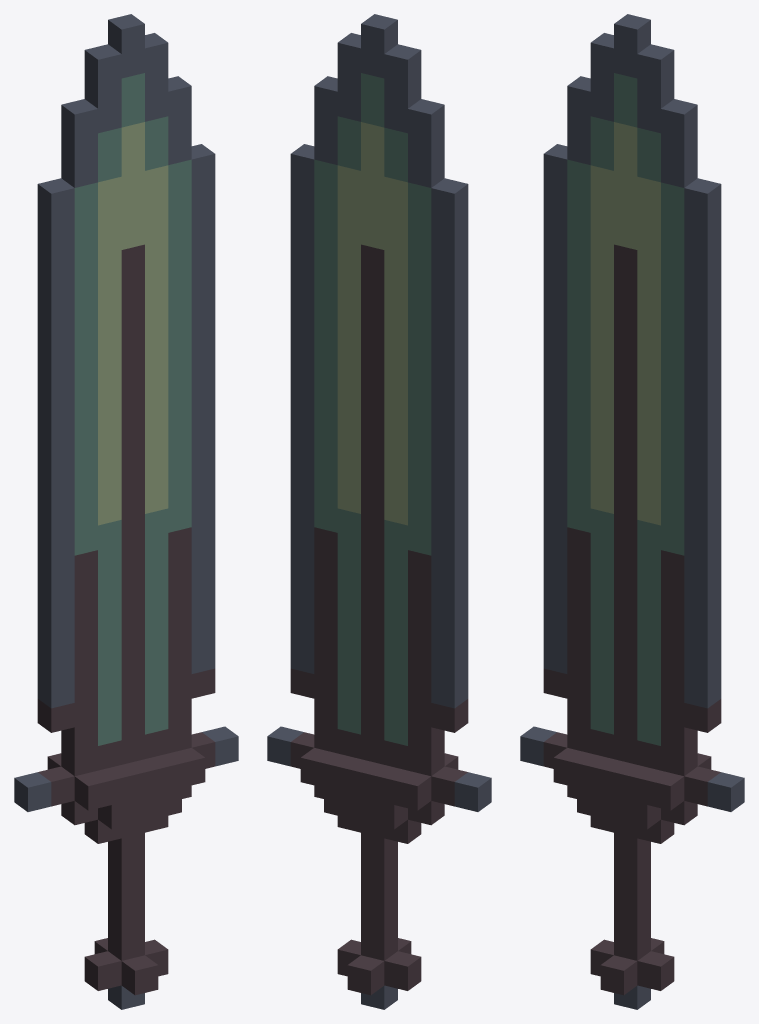
Rendered from demonKingSword.fbx.
3 renders of one model, left to right at view 1: azimuth 30°, elevation 25°; view 2: azimuth 150°, elevation 25°; view 3: azimuth 330°, elevation 25°, orthographic.
Visible parts, largest first — view 1: demonKingSword; view 2: demonKingSword; view 3: demonKingSword.
Part boxes in pixels (box(x1,y1,x2,y2)): demonKingSword: box(14, 14, 238, 1009); demonKingSword: box(267, 14, 491, 1009); demonKingSword: box(520, 14, 744, 1009).
Size of the model in its own units: 180 by 800 by 60.
1 material, 1 textured.
